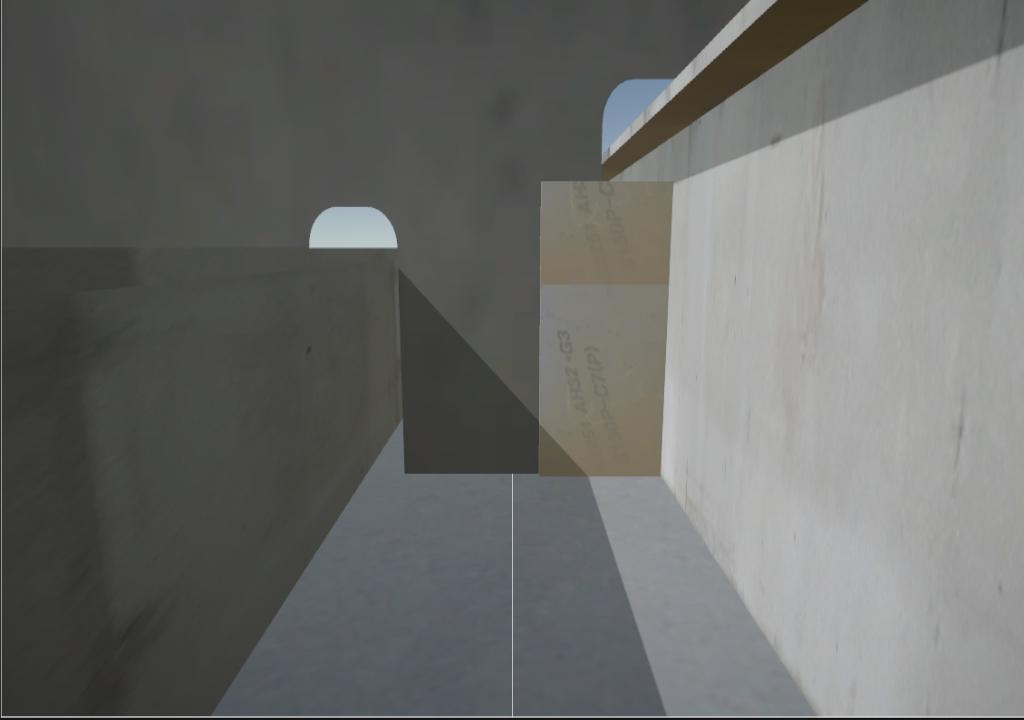fillet_yong_jeop_jang: (400, 466, 541, 481)
plate_CP01: (539, 179, 673, 477)
